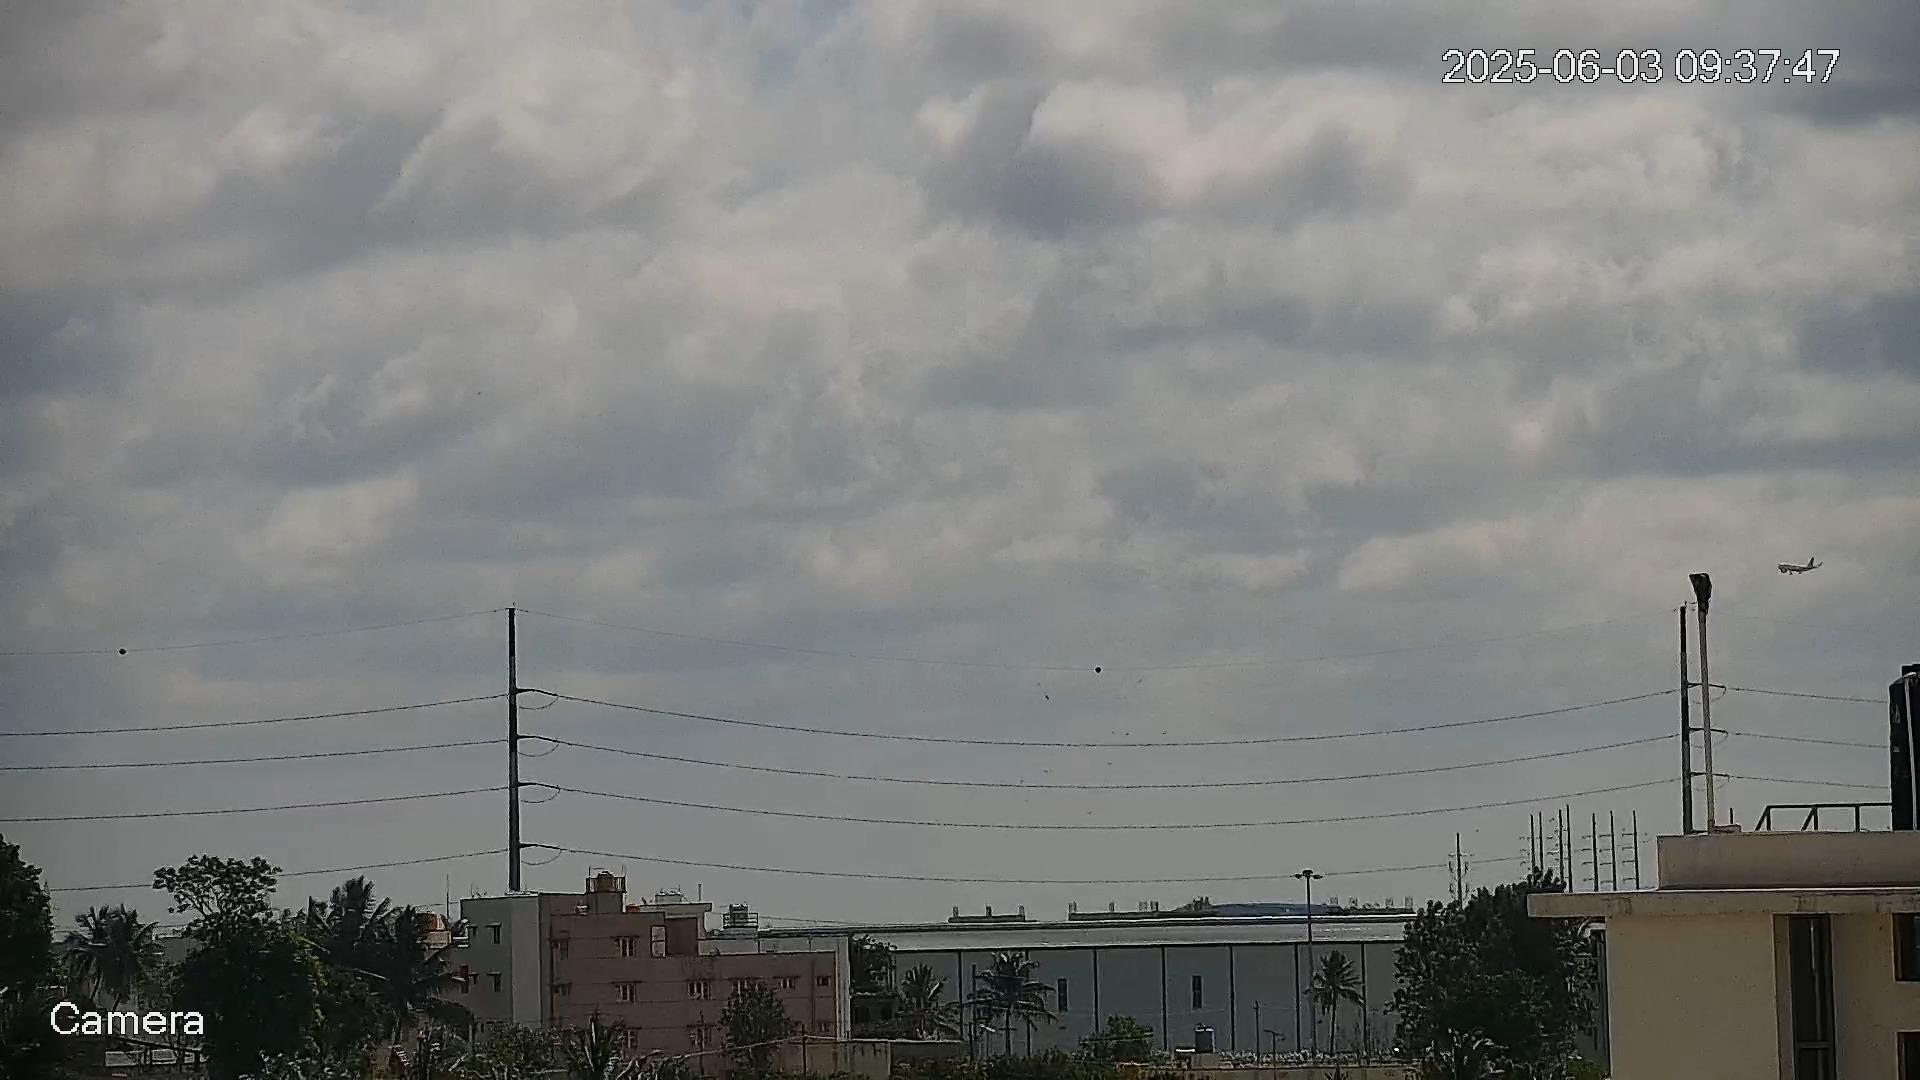Aircraft: (1776, 554, 1824, 576)
